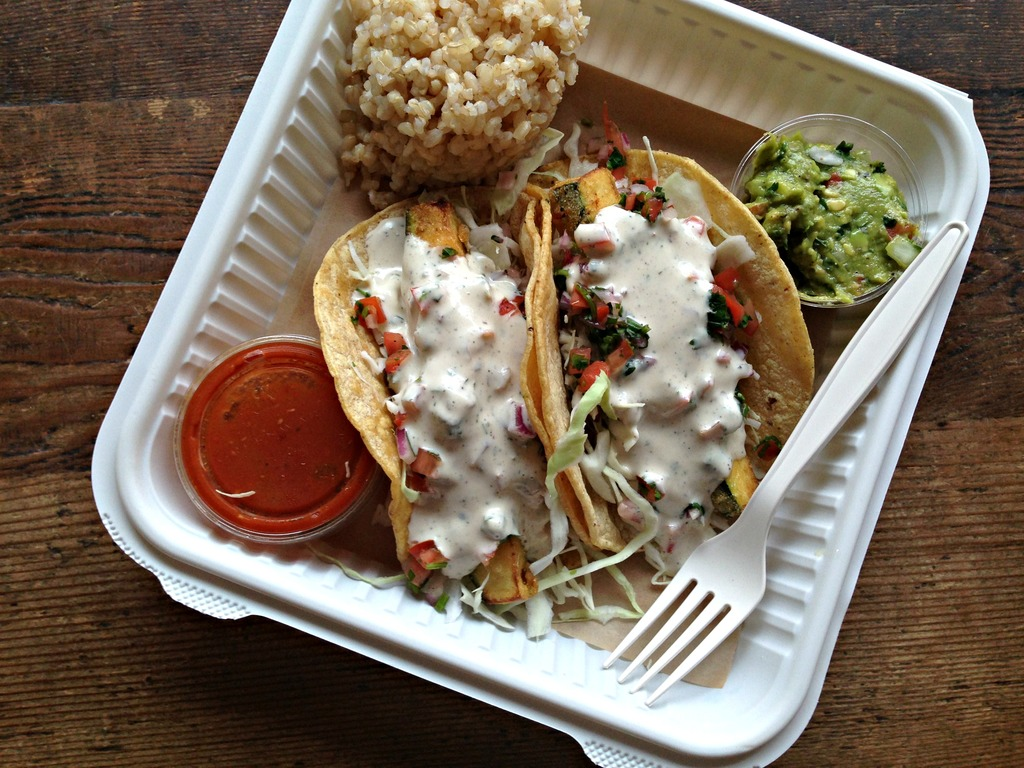taco: (302, 196, 576, 617)
